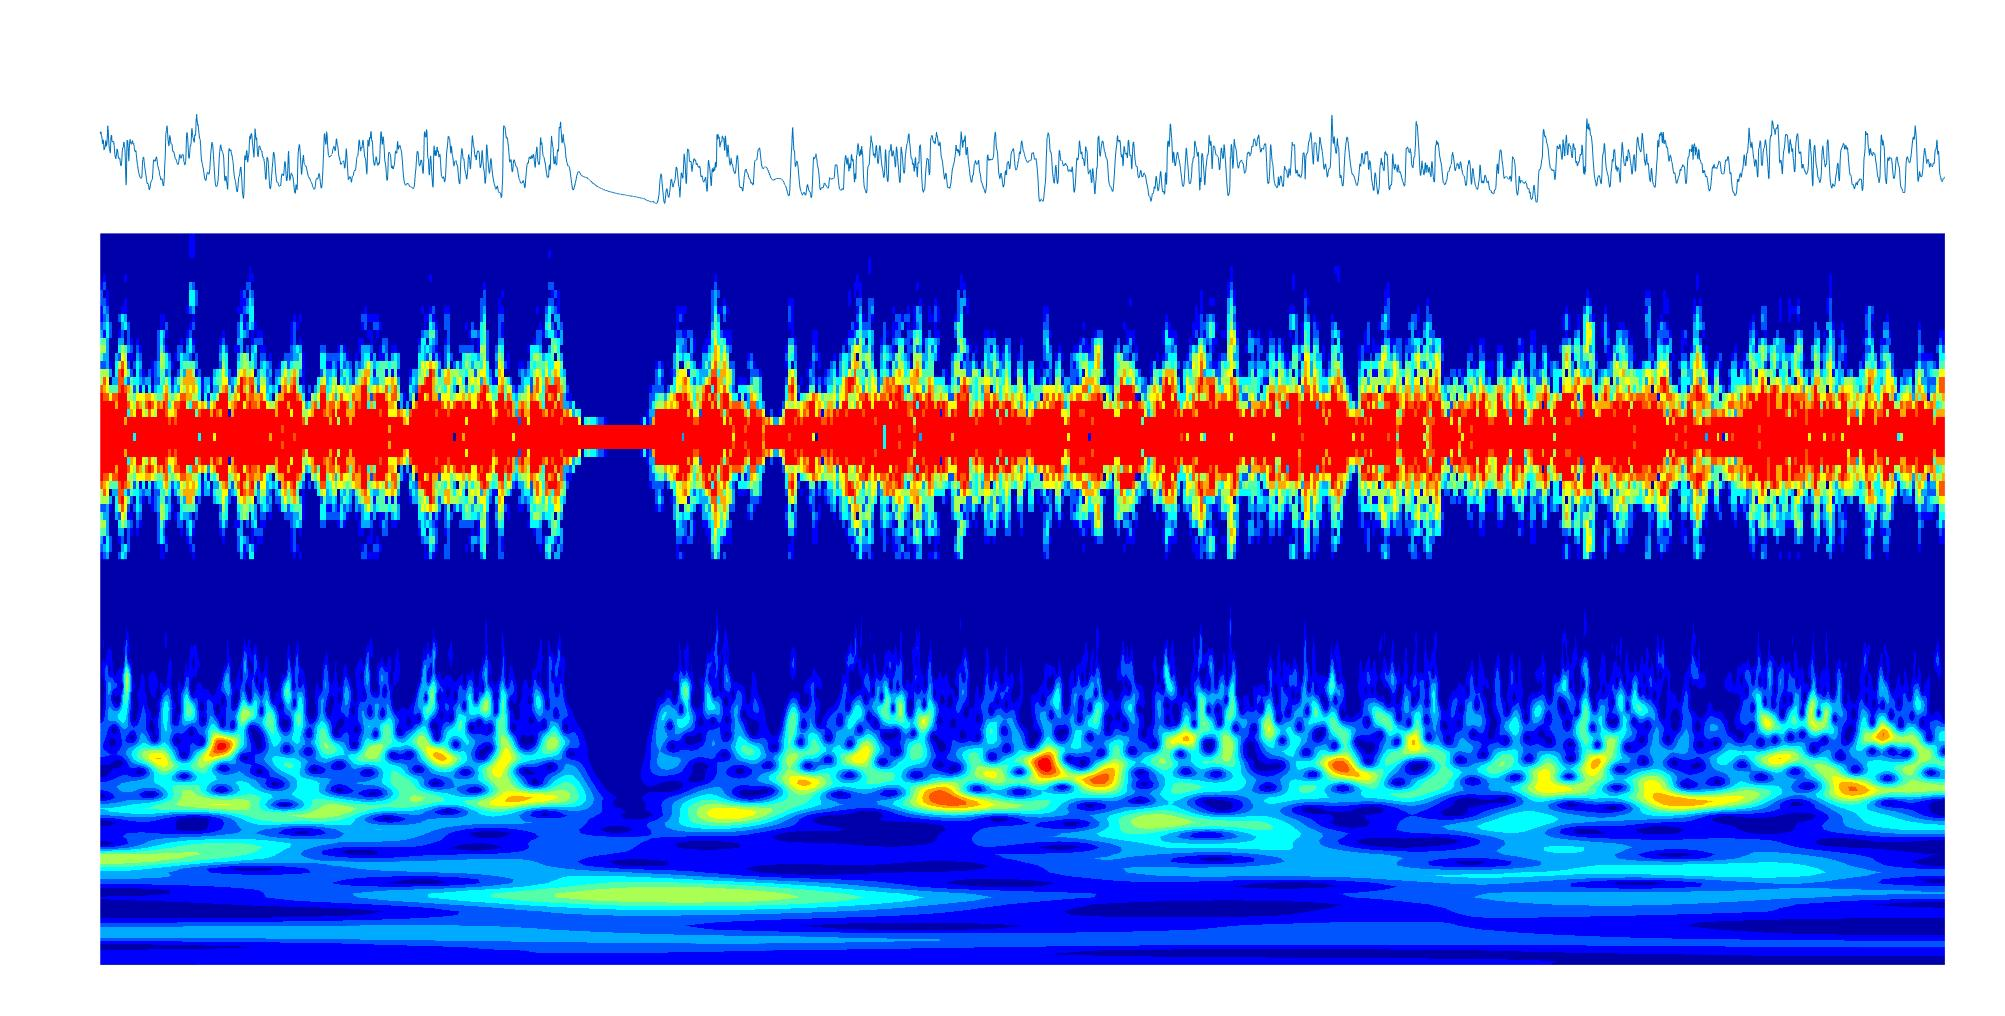TURBULENT: (655, 235, 1944, 963), (102, 235, 569, 964)
